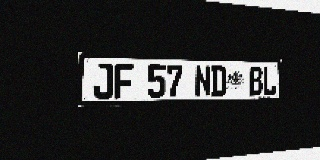5: (148, 64, 166, 98)
7: (166, 65, 183, 98)
B: (249, 66, 263, 96)
D: (211, 65, 226, 97)
F: (114, 63, 133, 99)
J: (93, 63, 113, 99)
L: (263, 67, 276, 95)
N: (195, 65, 210, 97)
